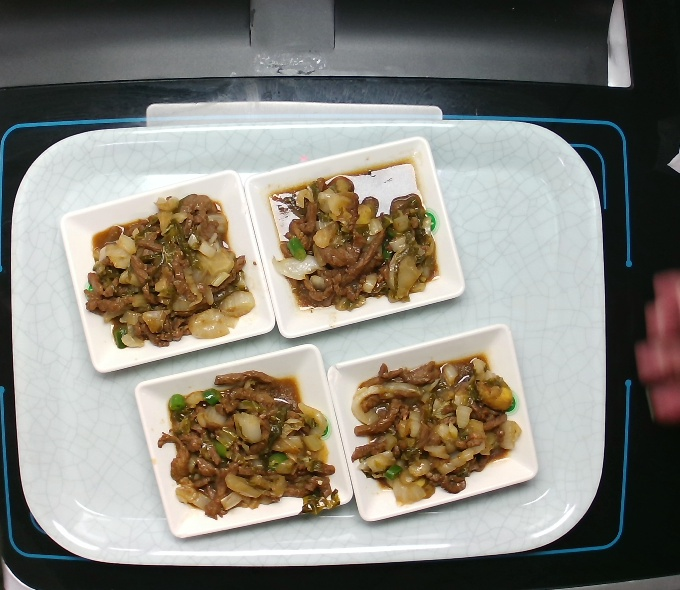wcq-PaoCaiNiuRou: (262, 156, 443, 315), (340, 350, 521, 509), (159, 364, 340, 523), (82, 192, 253, 346)
